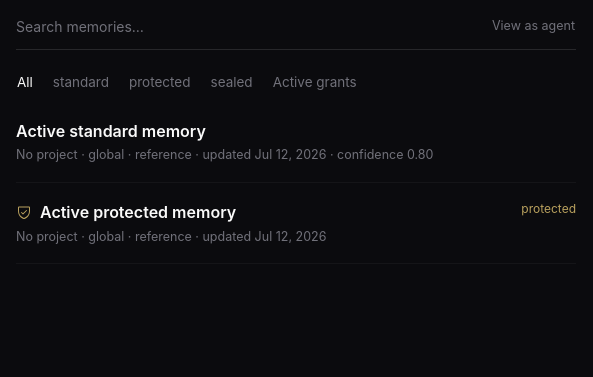
Test: SearchScreen lifecycle filtering › shows only active memories and limits agent view to standard visibility
Check: the text "Active standard memory" is shown, box top-left (16, 121), bottom-right (206, 141)
Check: the text "Active protected memory" is shown, box top-left (16, 202), bottom-right (236, 222)
Click the button "Agent view" at coordinates (534, 27), box top-left (491, 16), bottom-right (576, 37)
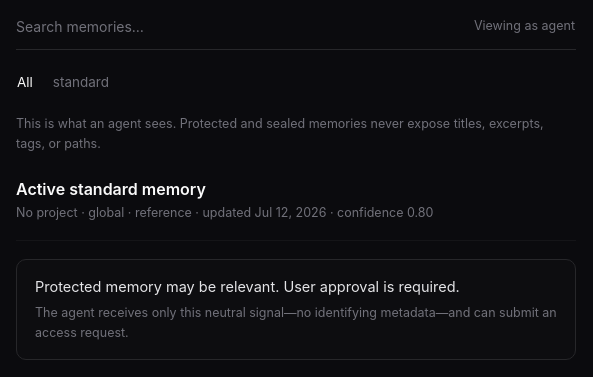
Check: the text "Active standard memory" is shown, box top-left (16, 179), bottom-right (206, 199)
Check: the button "Active protected memory" is gone
